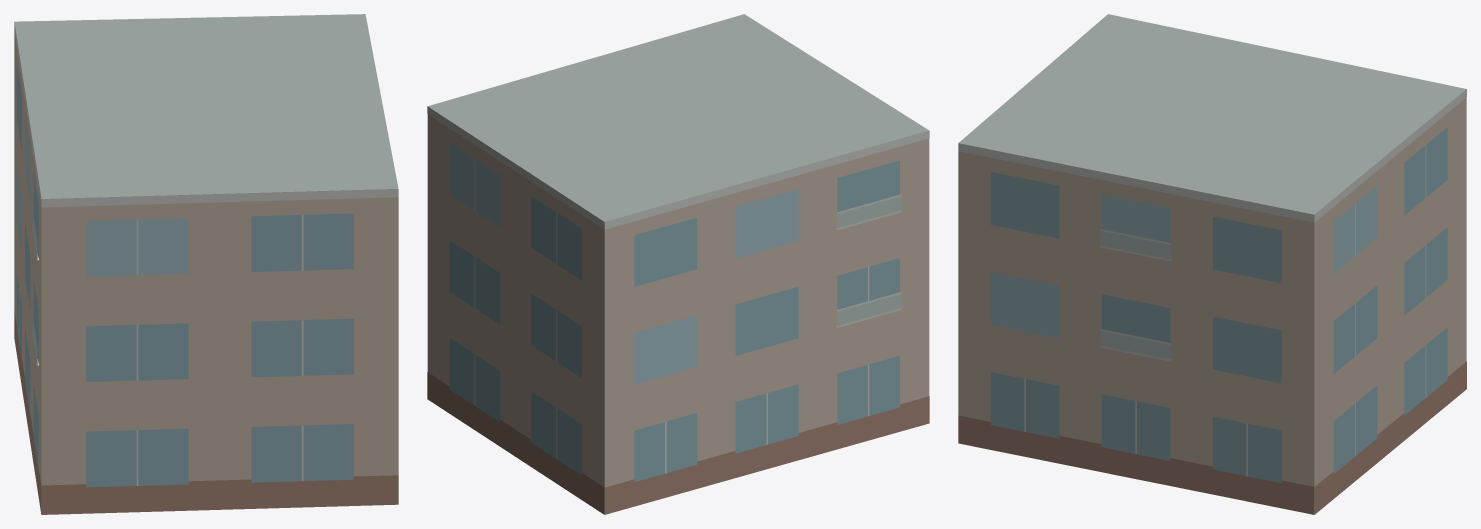
File: survey-upis-32581413.glb
The picture shows the model from 3 angles, left to right: view 1: azimuth 30°, elevation 25°; view 2: azimuth 150°, elevation 25°; view 3: azimuth 270°, elevation 25°; orthographic projection. The views are drawn at different scales.
Visible parts, largest first — view 1: survey-upis-32581413.tmp; view 2: survey-upis-32581413.tmp; view 3: survey-upis-32581413.tmp.
Boxes of the visible parts, <box> form: survey-upis-32581413.tmp: <box>14,14,398,514</box>; survey-upis-32581413.tmp: <box>427,14,929,514</box>; survey-upis-32581413.tmp: <box>958,14,1466,514</box>.
Bounding box in the file's own units: 13.13 × 9.15 × 14.05.
